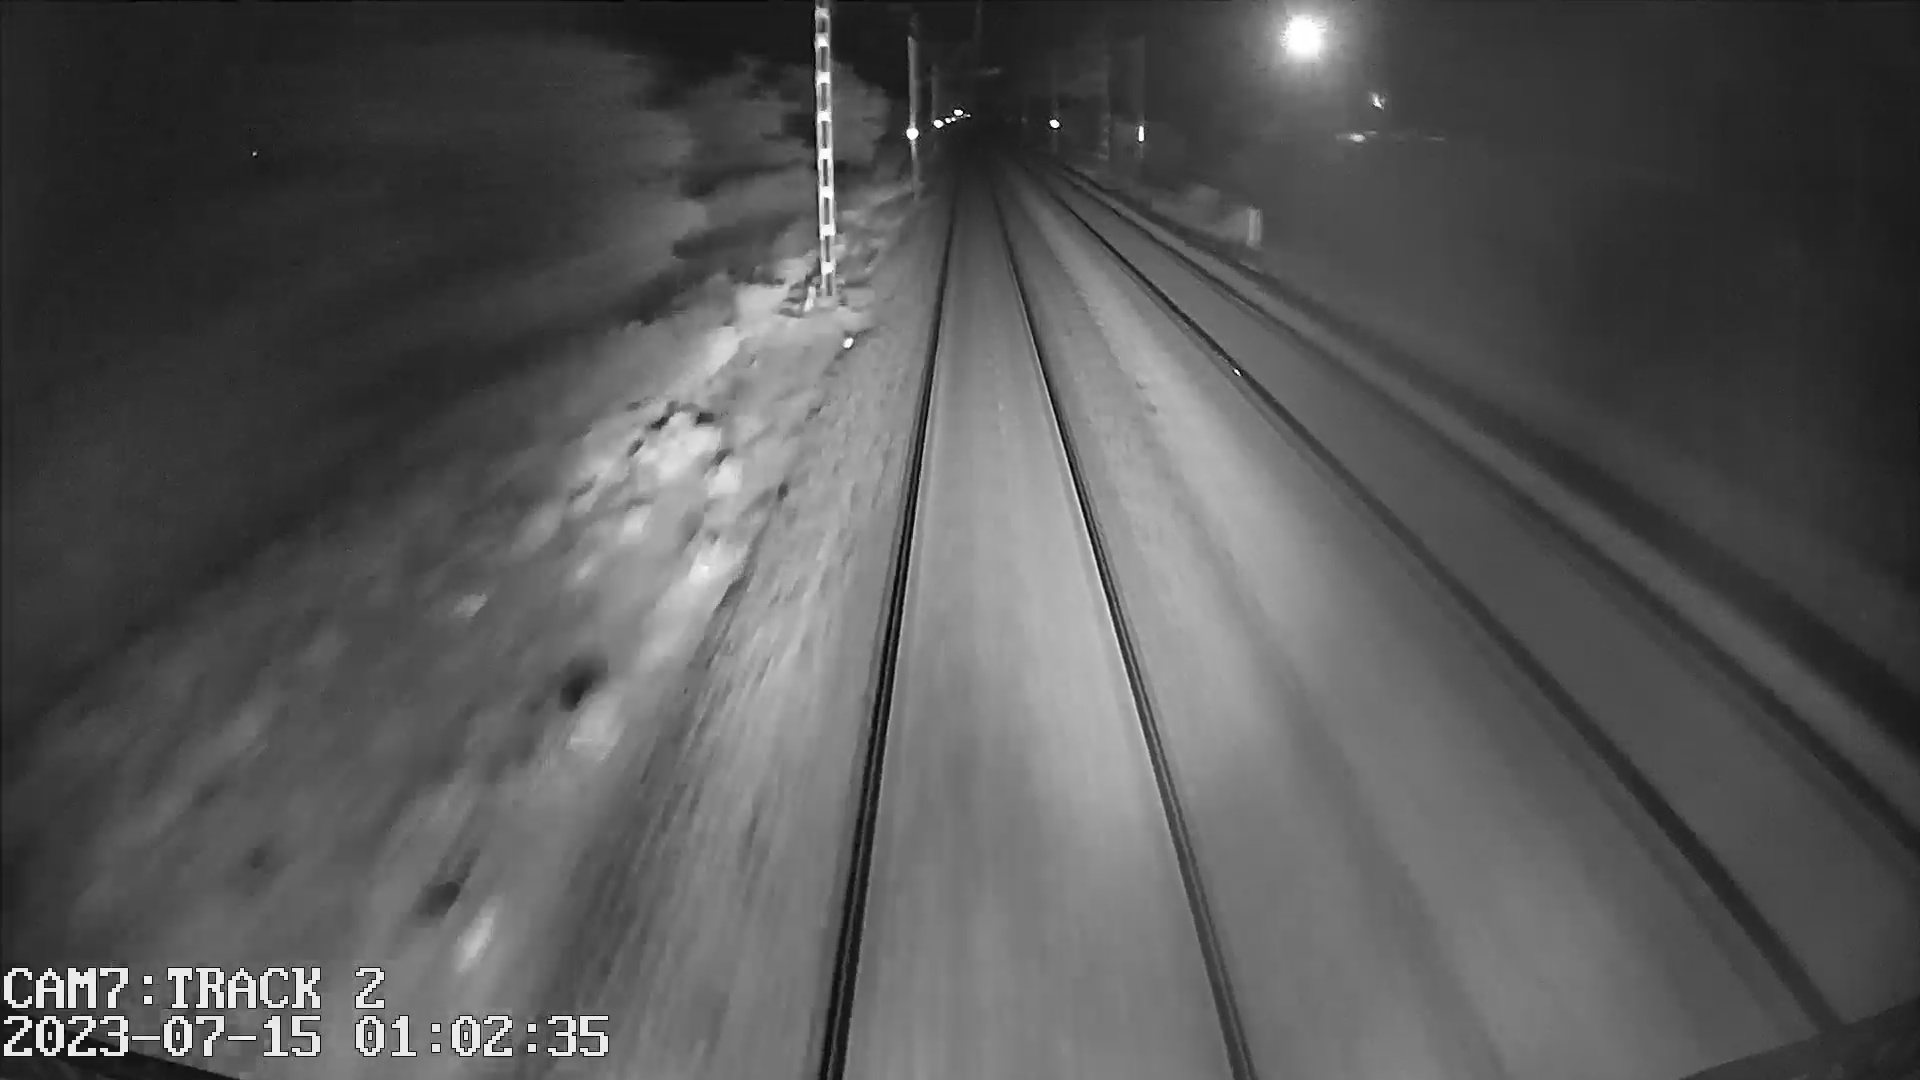track1: (834, 191, 1234, 1051)
track2: (1063, 200, 1911, 1019)
